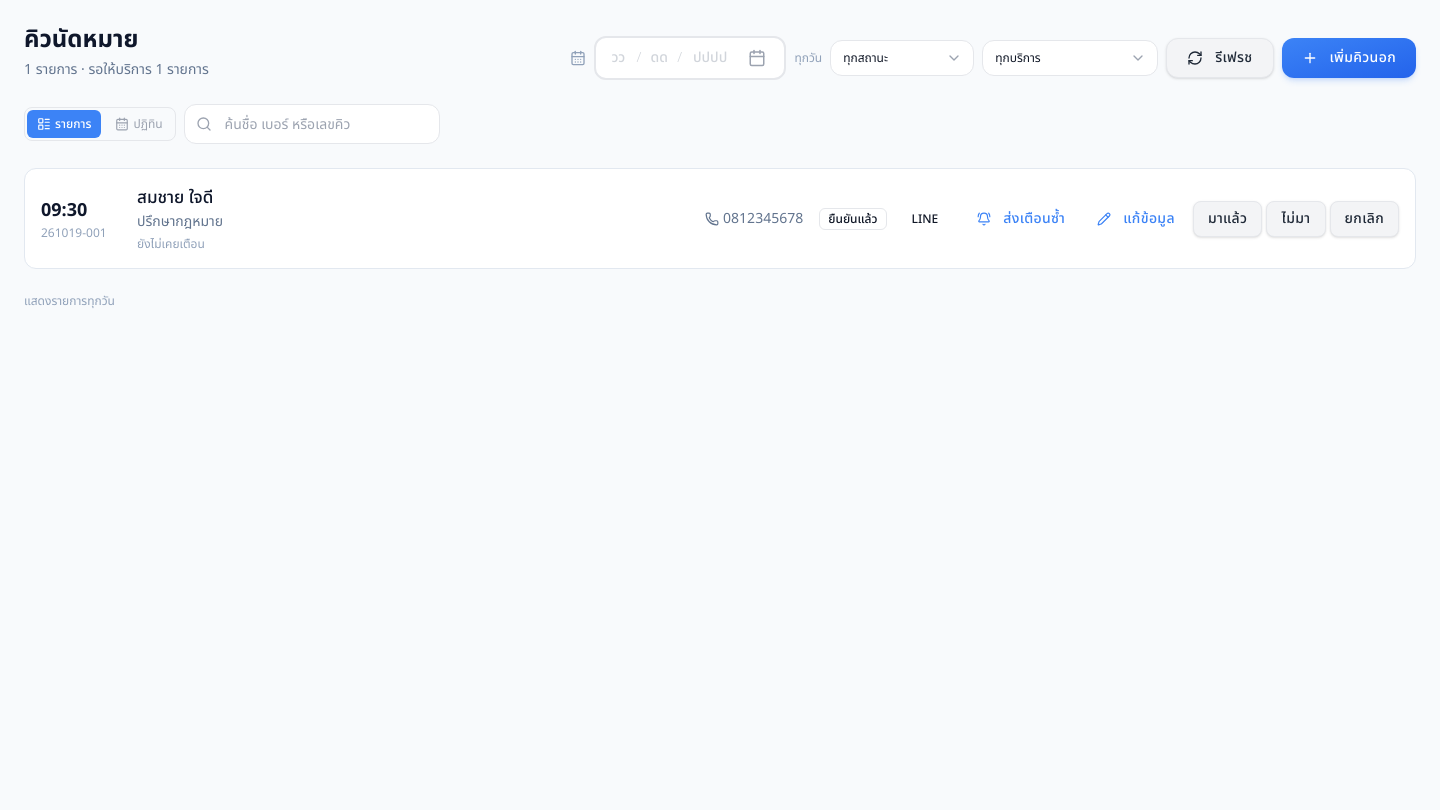
it: calendar view › clicking a day filters the list and returns to it
The image size is (1440, 810).
Expected: the list is shown, [24, 168, 1416, 269]
Click the tab "ปฏิทิน": point(139, 124) [105, 110, 173, 138]
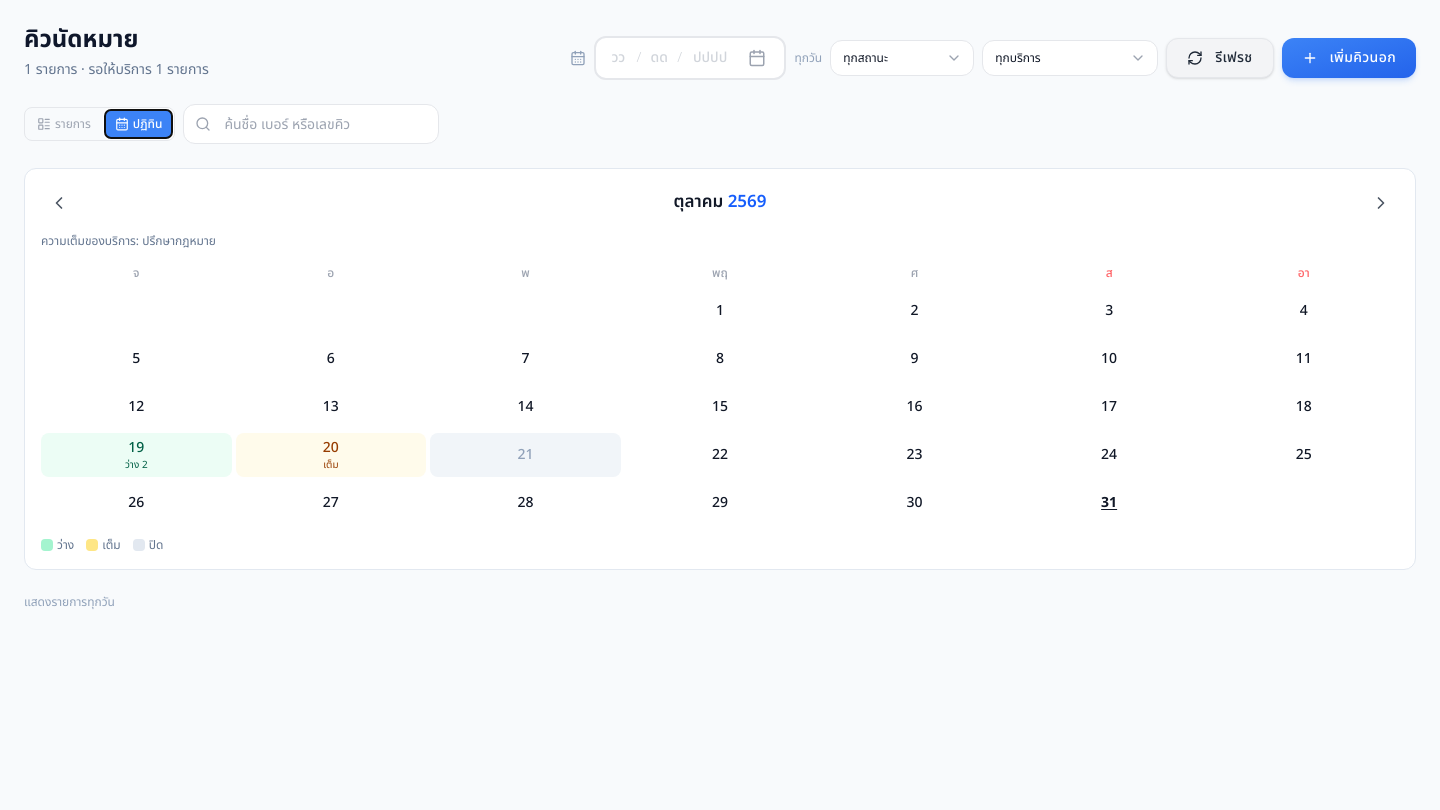
Result: the element named "วันในเดือน" is shown at [41, 261, 1399, 525]
Click the button with aria-label "19 ตุลาคม 2569 (ว่าง)": point(136, 455) [41, 433, 232, 477]
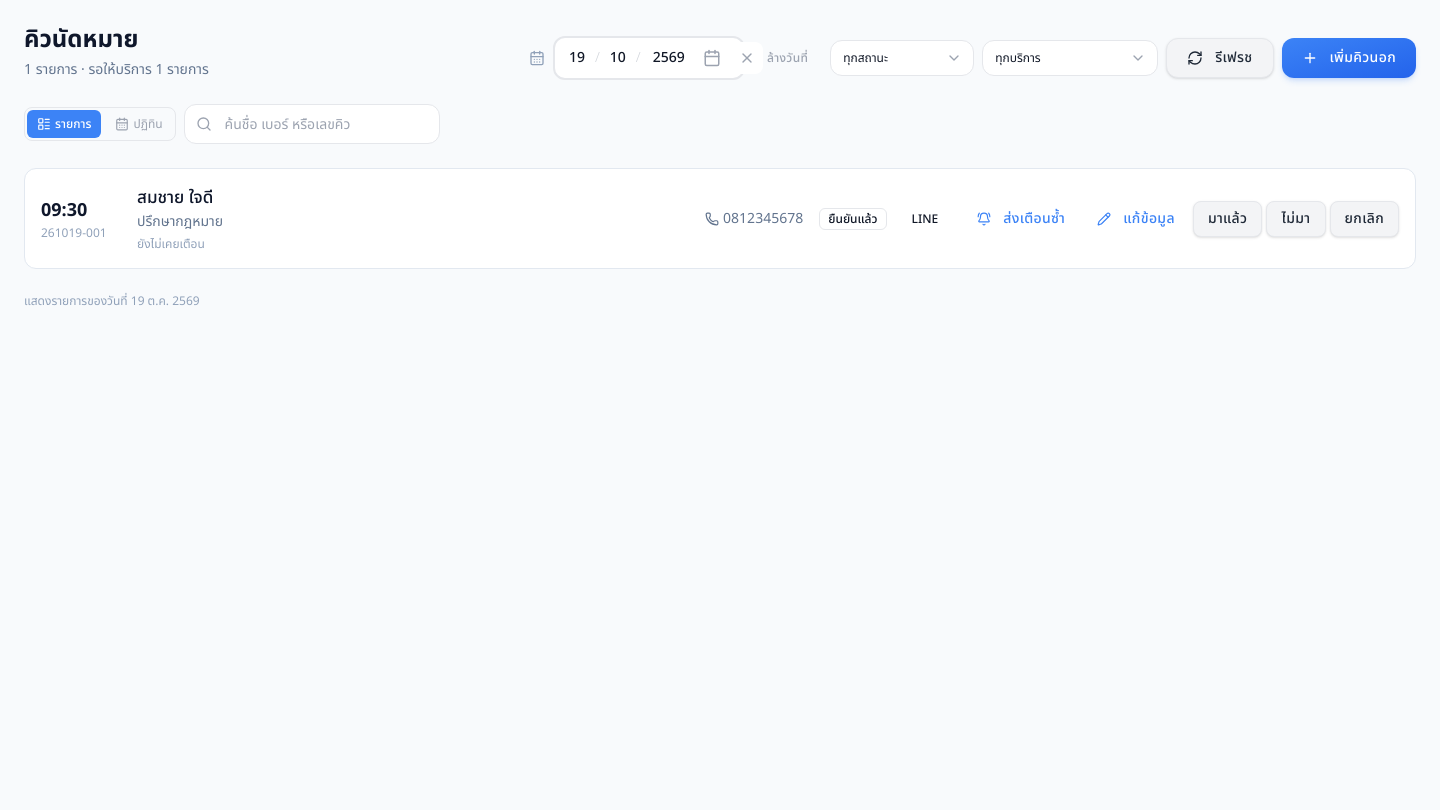
Result: the list is shown at [24, 168, 1416, 269]
Result: the element "วันในเดือน" is gone
